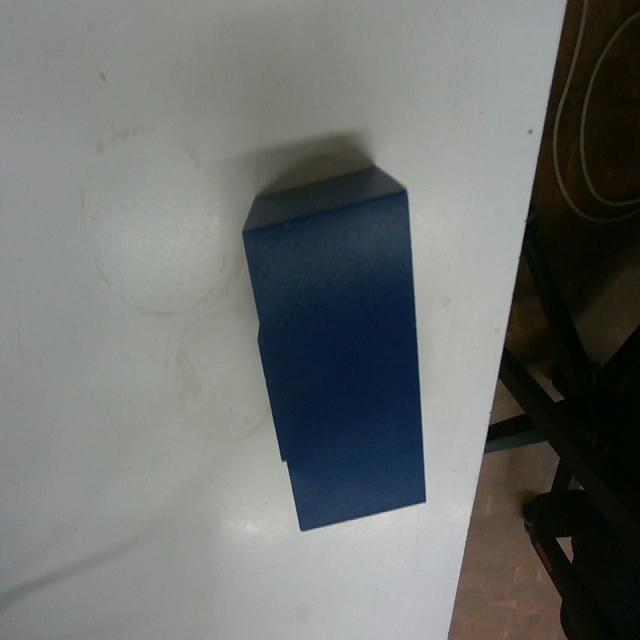Blue Cuboid: (240, 161, 428, 532)
